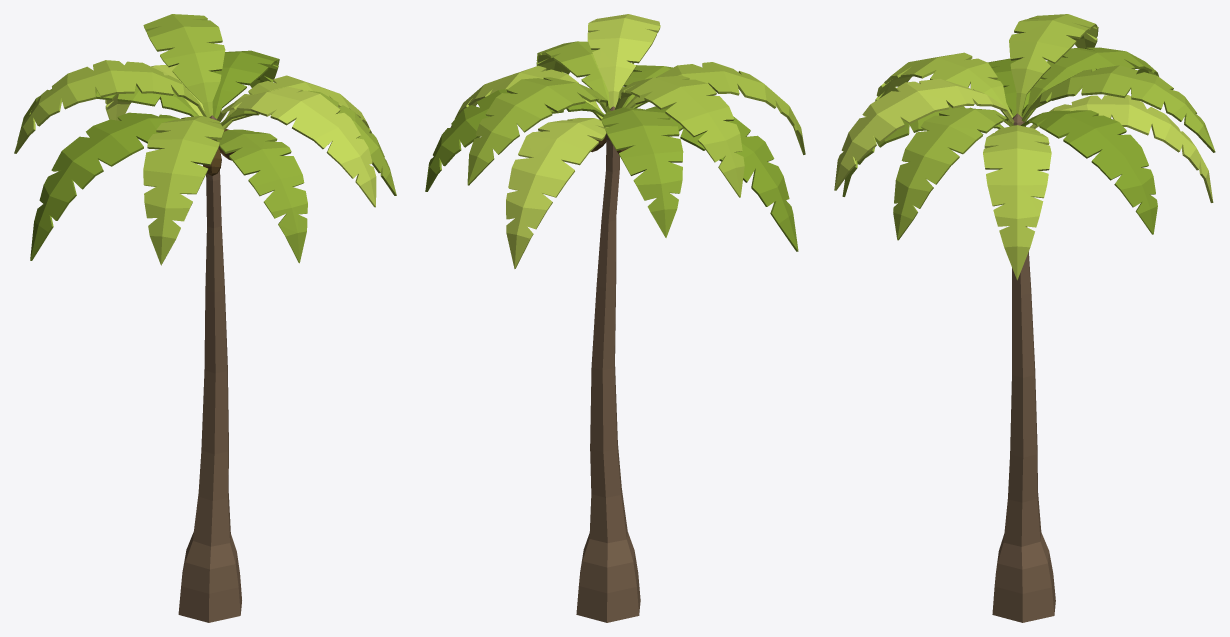
File: NHP_Tree_LP_G1_7m_01.fbx
The picture shows the model from 3 angles, left to right: view 1: azimuth 30°, elevation 25°; view 2: azimuth 150°, elevation 25°; view 3: azimuth 270°, elevation 25°; orthographic projection.
Visible parts, largest first — view 1: NHP_Tree_LP_G1_7m_01_LOD0; view 2: NHP_Tree_LP_G1_7m_01_LOD0; view 3: NHP_Tree_LP_G1_7m_01_LOD0.
Part boxes in pixels (x1=…): NHP_Tree_LP_G1_7m_01_LOD0: x1=14, y1=14, x2=396, y2=622; NHP_Tree_LP_G1_7m_01_LOD0: x1=425, y1=14, x2=805, y2=622; NHP_Tree_LP_G1_7m_01_LOD0: x1=834, y1=14, x2=1215, y2=622.
Size of what is drawn, in the model's own units: 4.74 by 7.18 by 4.55.
